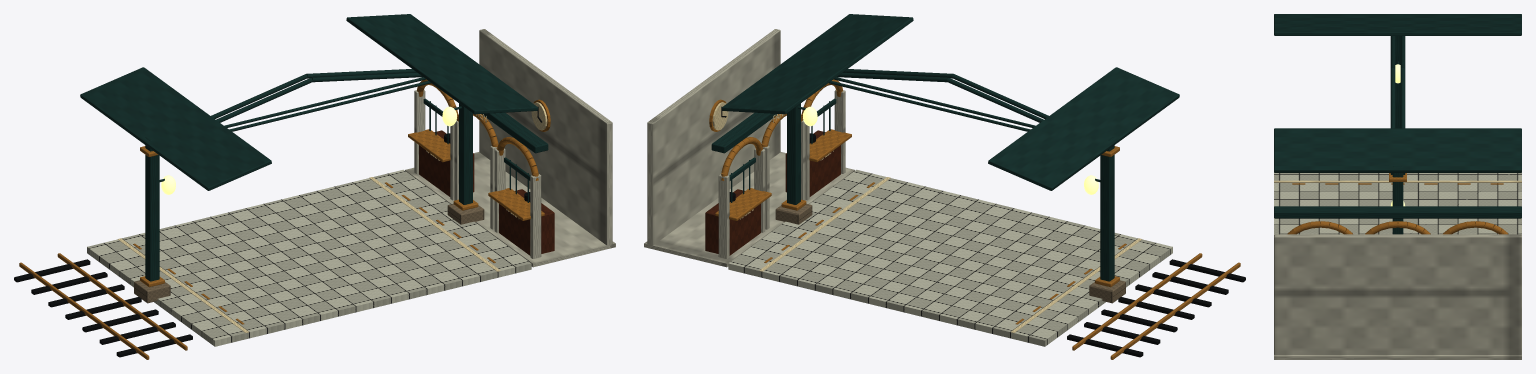
Rendered from station-ticket-hall-v1-CfXdbyjo.glb.
3 renders of one model, left to right at view 1: azimuth 30°, elevation 25°; view 2: azimuth 150°, elevation 25°; view 3: azimuth 270°, elevation 25°, orthographic. The views are drawn at different scales.
Parts seen in each view (by area): view 1: Platform paving, Ticket hall rear wall, Roof left, Fluted iron column, Roof right, Tactile edge stud, Rail sleeper, Ticket counter, Platform edge stripe, Column stone plinth, Opal station lamp; view 2: Platform paving, Ticket hall rear wall, Roof left, Fluted iron column, Roof right, Tactile edge stud, Rail sleeper, Ticket counter, Platform edge stripe, Column stone plinth, Opal station lamp; view 3: Ticket hall rear wall, Roof right, Platform paving, Roof left, Fluted iron column, Tactile edge stud, Platform edge stripe.
Part boxes in pixels (bbox=[...]): Platform paving: bbox=[87, 169, 531, 346]; Ticket hall rear wall: bbox=[405, 29, 615, 267]; Roof left: bbox=[80, 67, 271, 190]; Fluted iron column: bbox=[145, 59, 548, 281]; Roof right: bbox=[346, 14, 538, 114]; Tactile edge stud: bbox=[19, 79, 550, 359]; Rail sleeper: bbox=[14, 106, 541, 357]; Ticket counter: bbox=[419, 130, 554, 255]; Platform edge stripe: bbox=[117, 102, 547, 332]; Column stone plinth: bbox=[134, 203, 484, 303]; Opal station lamp: bbox=[161, 106, 456, 194]; Platform paving: bbox=[728, 169, 1172, 346]; Ticket hall rear wall: bbox=[644, 29, 854, 267]; Roof left: bbox=[988, 67, 1179, 190]; Fluted iron column: bbox=[711, 59, 1114, 281]; Roof right: bbox=[721, 14, 913, 114]; Tactile edge stud: bbox=[709, 79, 1240, 359]; Rail sleeper: bbox=[721, 106, 1245, 357]; Ticket counter: bbox=[705, 130, 840, 255]; Platform edge stripe: bbox=[712, 102, 1142, 332]; Column stone plinth: bbox=[775, 203, 1125, 303]; Opal station lamp: bbox=[803, 106, 1098, 194]; Ticket hall rear wall: bbox=[1274, 234, 1521, 359]; Roof right: bbox=[1274, 128, 1521, 172]; Platform paving: bbox=[1274, 172, 1521, 234]; Roof left: bbox=[1274, 14, 1521, 35]; Fluted iron column: bbox=[1274, 15, 1521, 234]; Tactile edge stud: bbox=[1287, 173, 1508, 234]; Platform edge stripe: bbox=[1274, 180, 1521, 182].
Size of the model in its own units: 16.4 by 5.99 by 7.5.
Materials: 9 (9 with a texture image).
